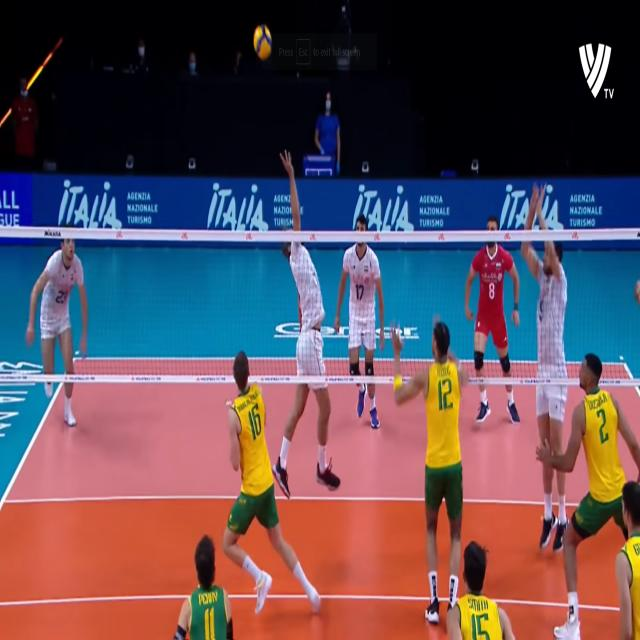player: (547, 353, 640, 640), (224, 347, 323, 612), (399, 322, 466, 618), (526, 193, 568, 559), (281, 218, 335, 489), (27, 235, 91, 432), (467, 215, 519, 425), (340, 214, 384, 431), (174, 538, 237, 640), (452, 543, 518, 640)
